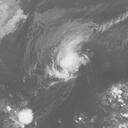cyclone: (45, 41, 89, 81)
